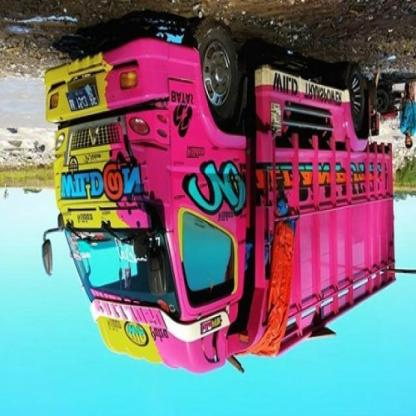truck: (40, 25, 399, 375)
